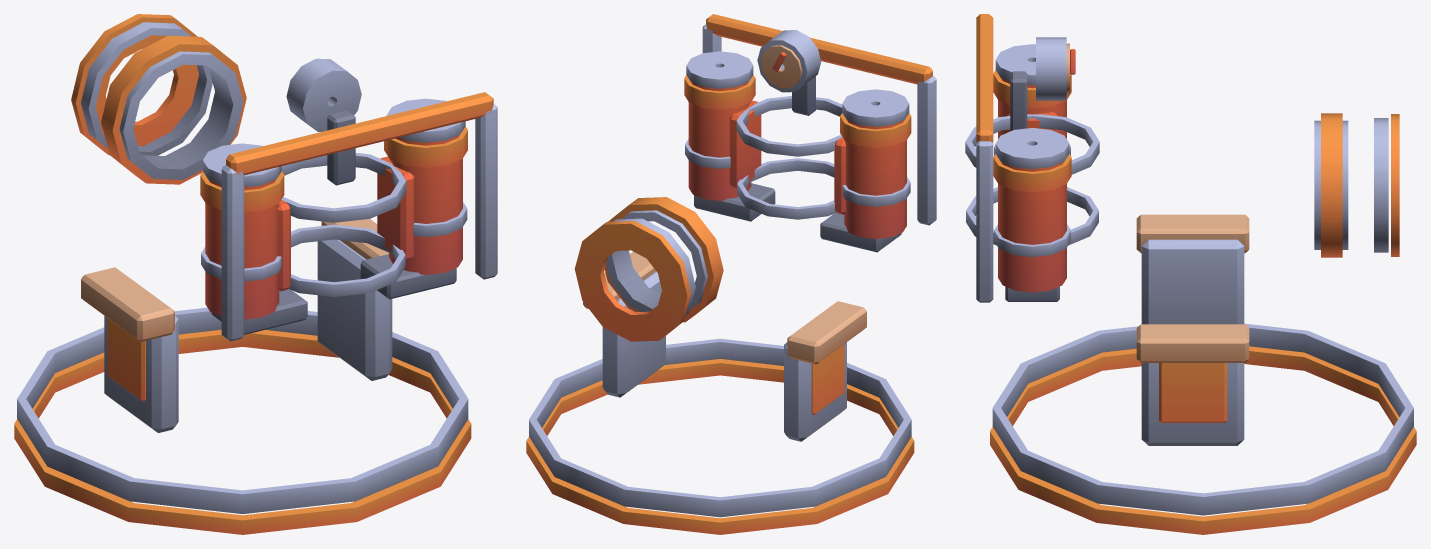
Rendered from flamethrower_upgrades.glb.
3 views of the same model, side by side, from view 1: azimuth 30°, elevation 25°; view 2: azimuth 150°, elevation 25°; view 3: azimuth 270°, elevation 25° (orthographic). The views are drawn at different scales.
Visible parts, largest first — view 1: upgrade_l8_base, upgrade_l7_yaw, upgrade_l2_base, upgrade_l6_yaw, upgrade_l4_base, upgrade_l5_pitch, upgrade_l3_yaw, upgrade_l8_pitch, upgrade_l2_pitch, upgrade_l2_yaw, upgrade_l8_yaw; view 2: upgrade_l6_yaw, upgrade_l8_base, upgrade_l2_base, upgrade_l7_yaw, upgrade_l8_pitch, upgrade_l4_base, upgrade_l5_pitch, upgrade_l3_yaw, upgrade_l8_yaw, upgrade_l2_yaw, upgrade_l2_pitch; view 3: upgrade_l8_base, upgrade_l2_base, upgrade_l4_base, upgrade_l6_yaw, upgrade_l7_yaw, upgrade_l5_pitch, upgrade_l8_yaw, upgrade_l3_yaw, upgrade_l2_pitch, upgrade_l2_yaw, upgrade_l8_pitch.
Part boxes in pixels (left/top/right/bottom): upgrade_l8_base: left=14, top=219, right=471, bottom=534; upgrade_l7_yaw: left=221, top=58, right=497, bottom=341; upgrade_l2_base: left=17, top=307, right=468, bottom=514; upgrade_l6_yaw: left=201, top=98, right=467, bottom=334; upgrade_l4_base: left=104, top=239, right=392, bottom=432; upgrade_l5_pitch: left=101, top=35, right=246, bottom=184; upgrade_l3_yaw: left=277, top=153, right=414, bottom=291; upgrade_l8_pitch: left=71, top=14, right=199, bottom=155; upgrade_l2_pitch: left=81, top=22, right=212, bottom=155; upgrade_l2_yaw: left=288, top=224, right=405, bottom=296; upgrade_l8_yaw: left=200, top=126, right=467, bottom=212; upgrade_l6_yaw: left=685, top=51, right=910, bottom=252; upgrade_l8_base: left=526, top=251, right=914, bottom=534; upgrade_l2_base: left=529, top=338, right=911, bottom=517; upgrade_l7_yaw: left=702, top=14, right=936, bottom=225; upgrade_l8_pitch: left=574, top=221, right=691, bottom=341; upgrade_l4_base: left=602, top=271, right=846, bottom=441; upgrade_l5_pitch: left=605, top=197, right=723, bottom=322; upgrade_l3_yaw: left=729, top=96, right=845, bottom=214; upgrade_l8_yaw: left=684, top=75, right=911, bottom=147; upgrade_l2_yaw: left=737, top=158, right=836, bottom=219; upgrade_l2_pitch: left=613, top=218, right=695, bottom=315; upgrade_l8_base: left=990, top=214, right=1416, bottom=534; upgrade_l2_base: left=992, top=323, right=1413, bottom=515; upgrade_l4_base: left=1141, top=239, right=1244, bottom=445; upgrade_l6_yaw: left=994, top=44, right=1070, bottom=301; upgrade_l7_yaw: left=976, top=14, right=1075, bottom=302; upgrade_l5_pitch: left=1314, top=113, right=1348, bottom=257; upgrade_l8_yaw: left=993, top=70, right=1071, bottom=192; upgrade_l3_yaw: left=965, top=112, right=1099, bottom=174; upgrade_l2_pitch: left=1374, top=118, right=1388, bottom=252; upgrade_l2_yaw: left=966, top=187, right=1098, bottom=245; upgrade_l8_pitch: left=1391, top=114, right=1399, bottom=256.
Size of the model in its own units: 1.25 by 1.31 by 1.32.
Materials: 1 (1 with a texture image).
